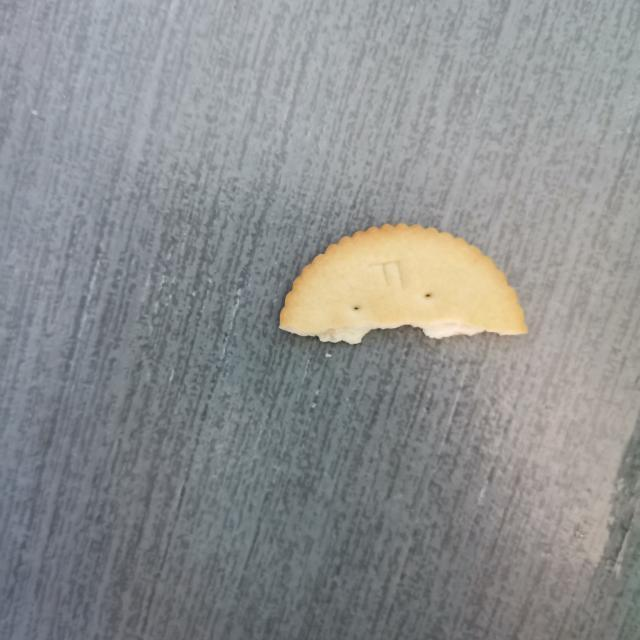Broken: (278, 221, 528, 346)
